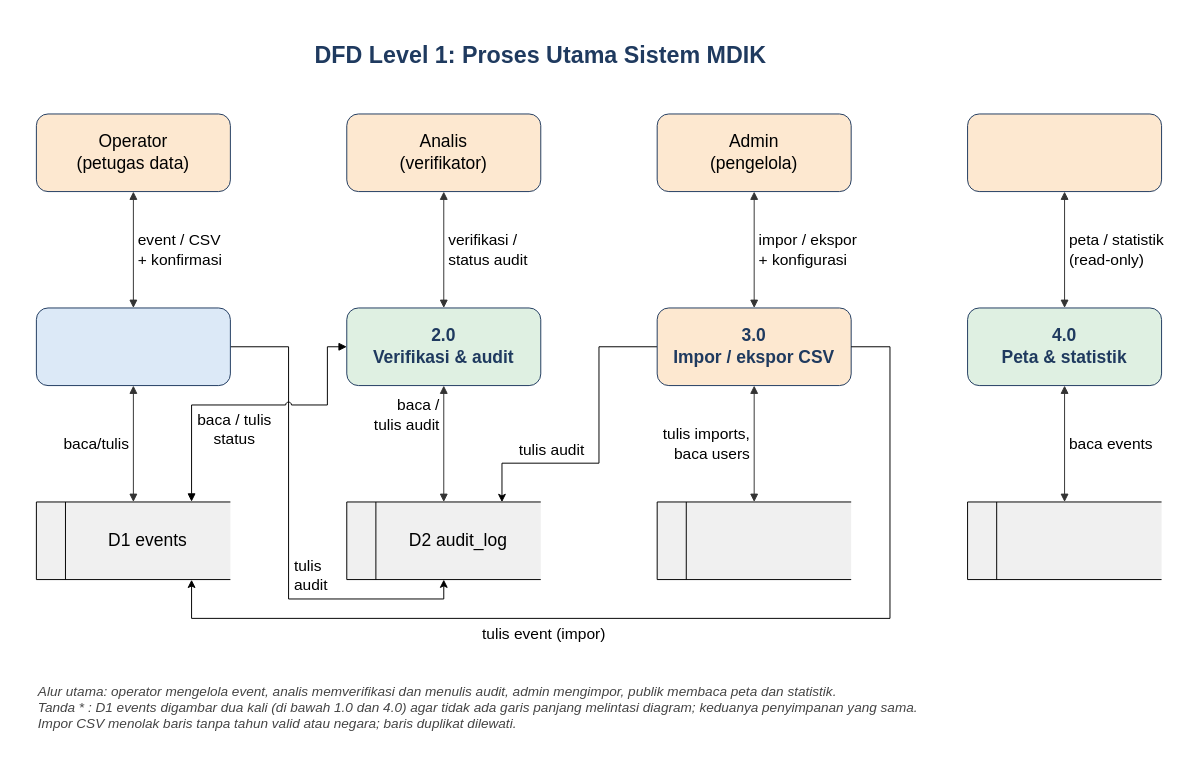
The diagram is 1197 pixels wide and 770 high, and some of its shapes have lost their labels. Here are the shapes that lost their labels. From the top down, the centre of each, then its label:
point 1064,152: Publik (pengguna)
point 132,346: 1.0 Kelola event (CRUD)
point 753,540: D3 users / imports
point 1064,540: D1 events *
